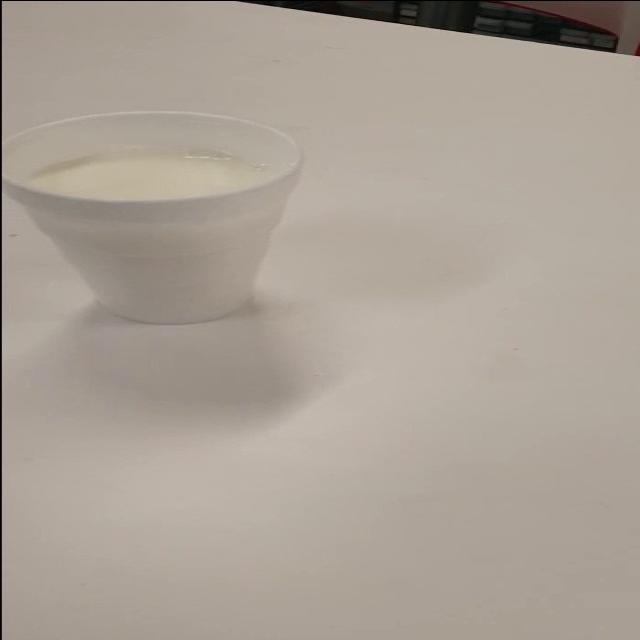Milk: (0, 106, 355, 340)
